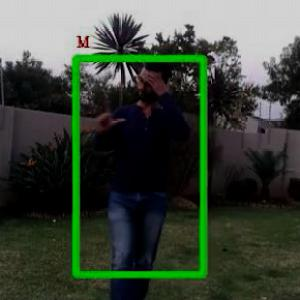land_hand: (93, 88, 126, 133)
